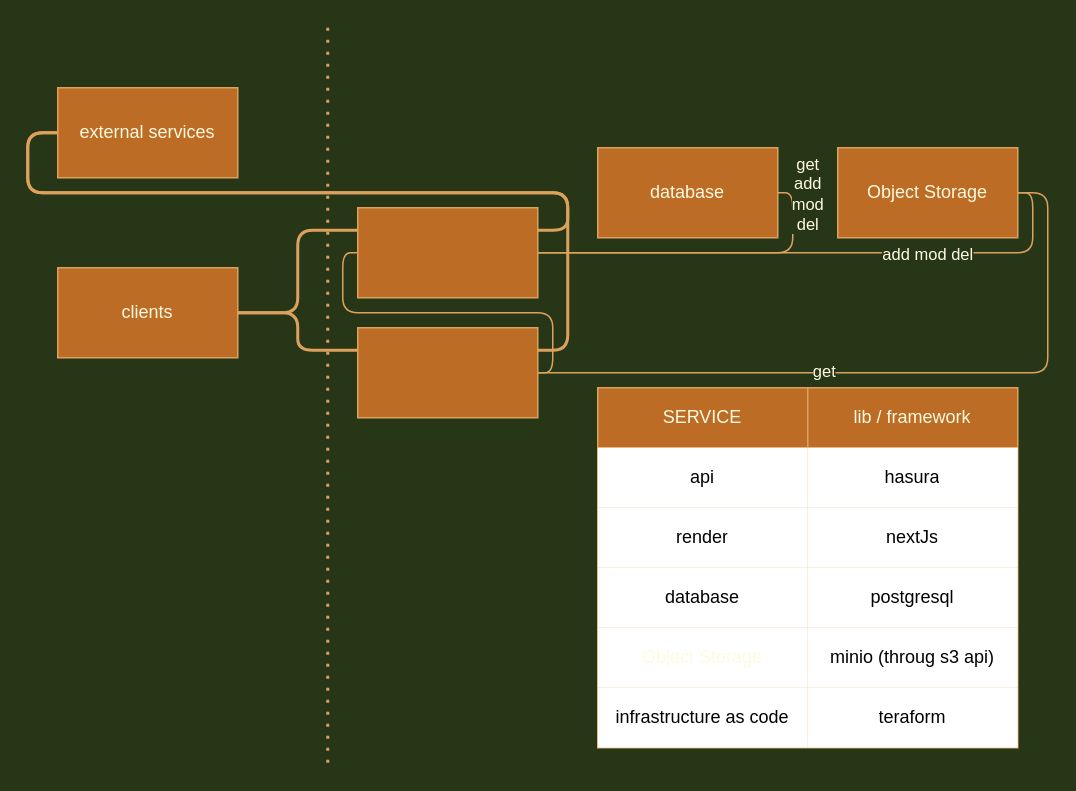
Image size: 1076x791. Some labels were removed from this diagram. The shapes that lost their labels are listed below. From the top down, each one's centre as x and y in pixels, then its label:
At [447,252]: "api data".
At [447,372]: "service de rendu html css".
